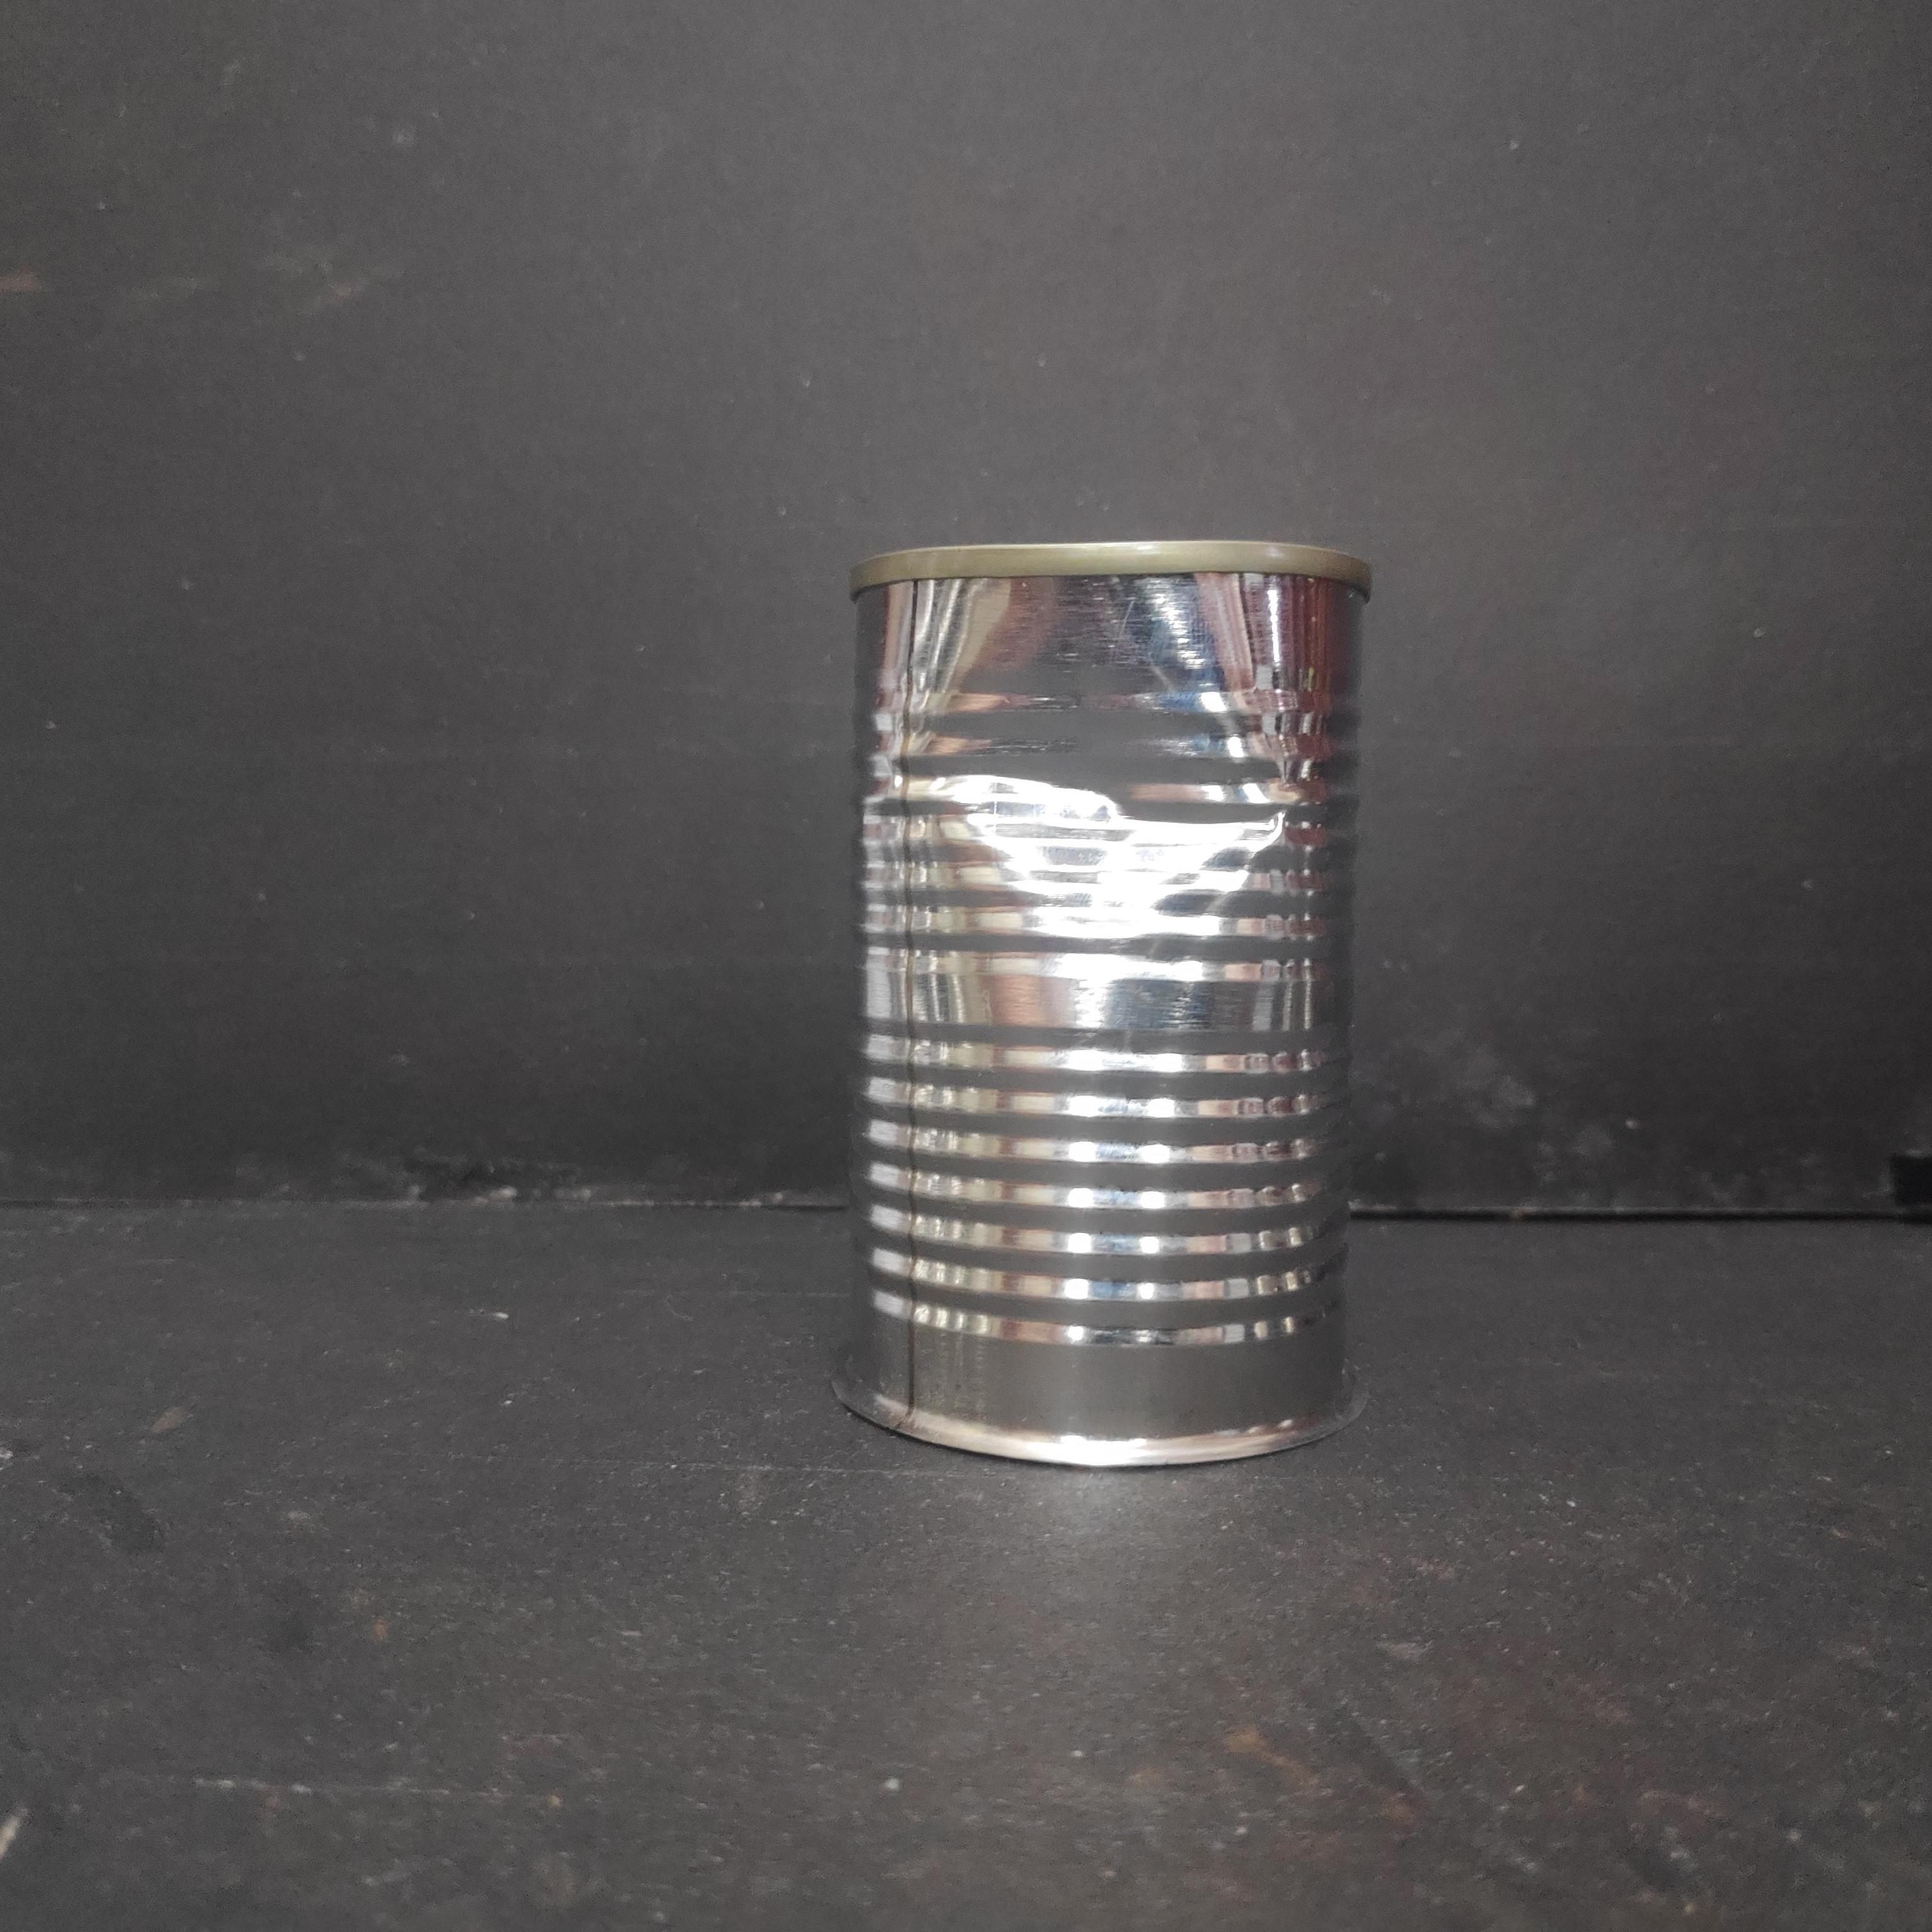Minor Defect: (832, 525, 1386, 1485)
